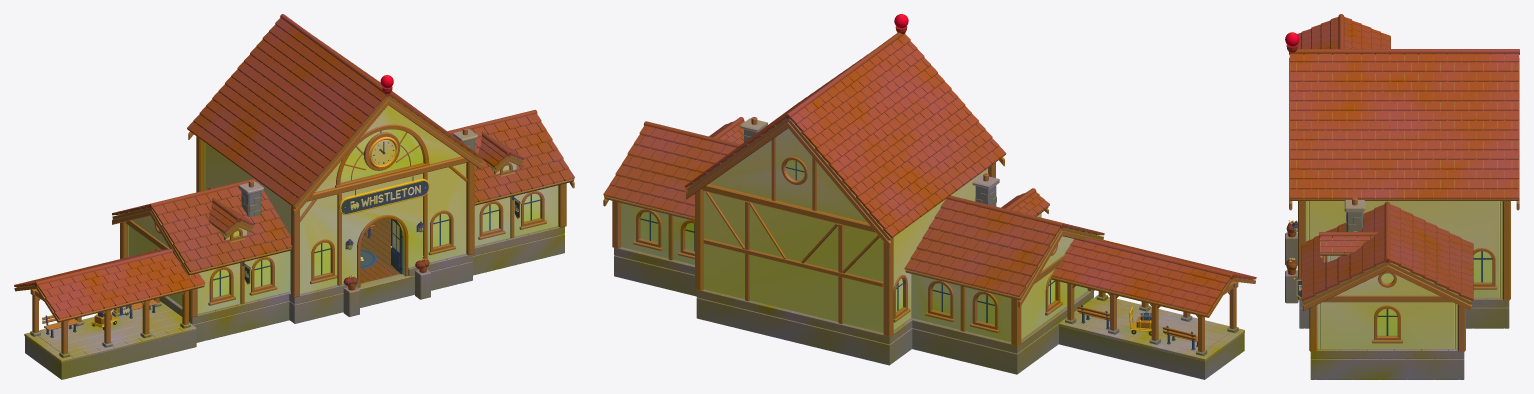
The model's file is Station_Main.glb.
3 renders of one model, left to right at view 1: azimuth 30°, elevation 25°; view 2: azimuth 150°, elevation 25°; view 3: azimuth 270°, elevation 25°, orthographic. The views are drawn at different scales.
Parts seen in each view (by area): view 1: Roof, Walls, Canopy, Plinth, Openings, Facade, Door_R; view 2: Roof, Walls, Canopy, Plinth, Openings; view 3: Roof, Walls, Plinth, Canopy, Openings.
Part boxes in pixels (x1,y1,x2,y2): Roof: [112, 14, 574, 275]; Walls: [112, 99, 574, 317]; Canopy: [14, 248, 205, 379]; Plinth: [159, 218, 564, 342]; Openings: [154, 124, 546, 305]; Facade: [242, 176, 521, 284]; Door_R: [390, 218, 402, 274]; Roof: [603, 14, 1104, 300]; Walls: [603, 122, 1104, 346]; Canopy: [1051, 238, 1256, 379]; Plinth: [614, 247, 1093, 374]; Openings: [633, 157, 1062, 333]; Roof: [1285, 32, 1519, 304]; Walls: [1289, 58, 1519, 351]; Plinth: [1285, 220, 1509, 379]; Canopy: [1297, 14, 1390, 48]; Openings: [1372, 247, 1497, 343].
Bounding box in the file's own units: 29.01 × 12.19 × 10.43.
